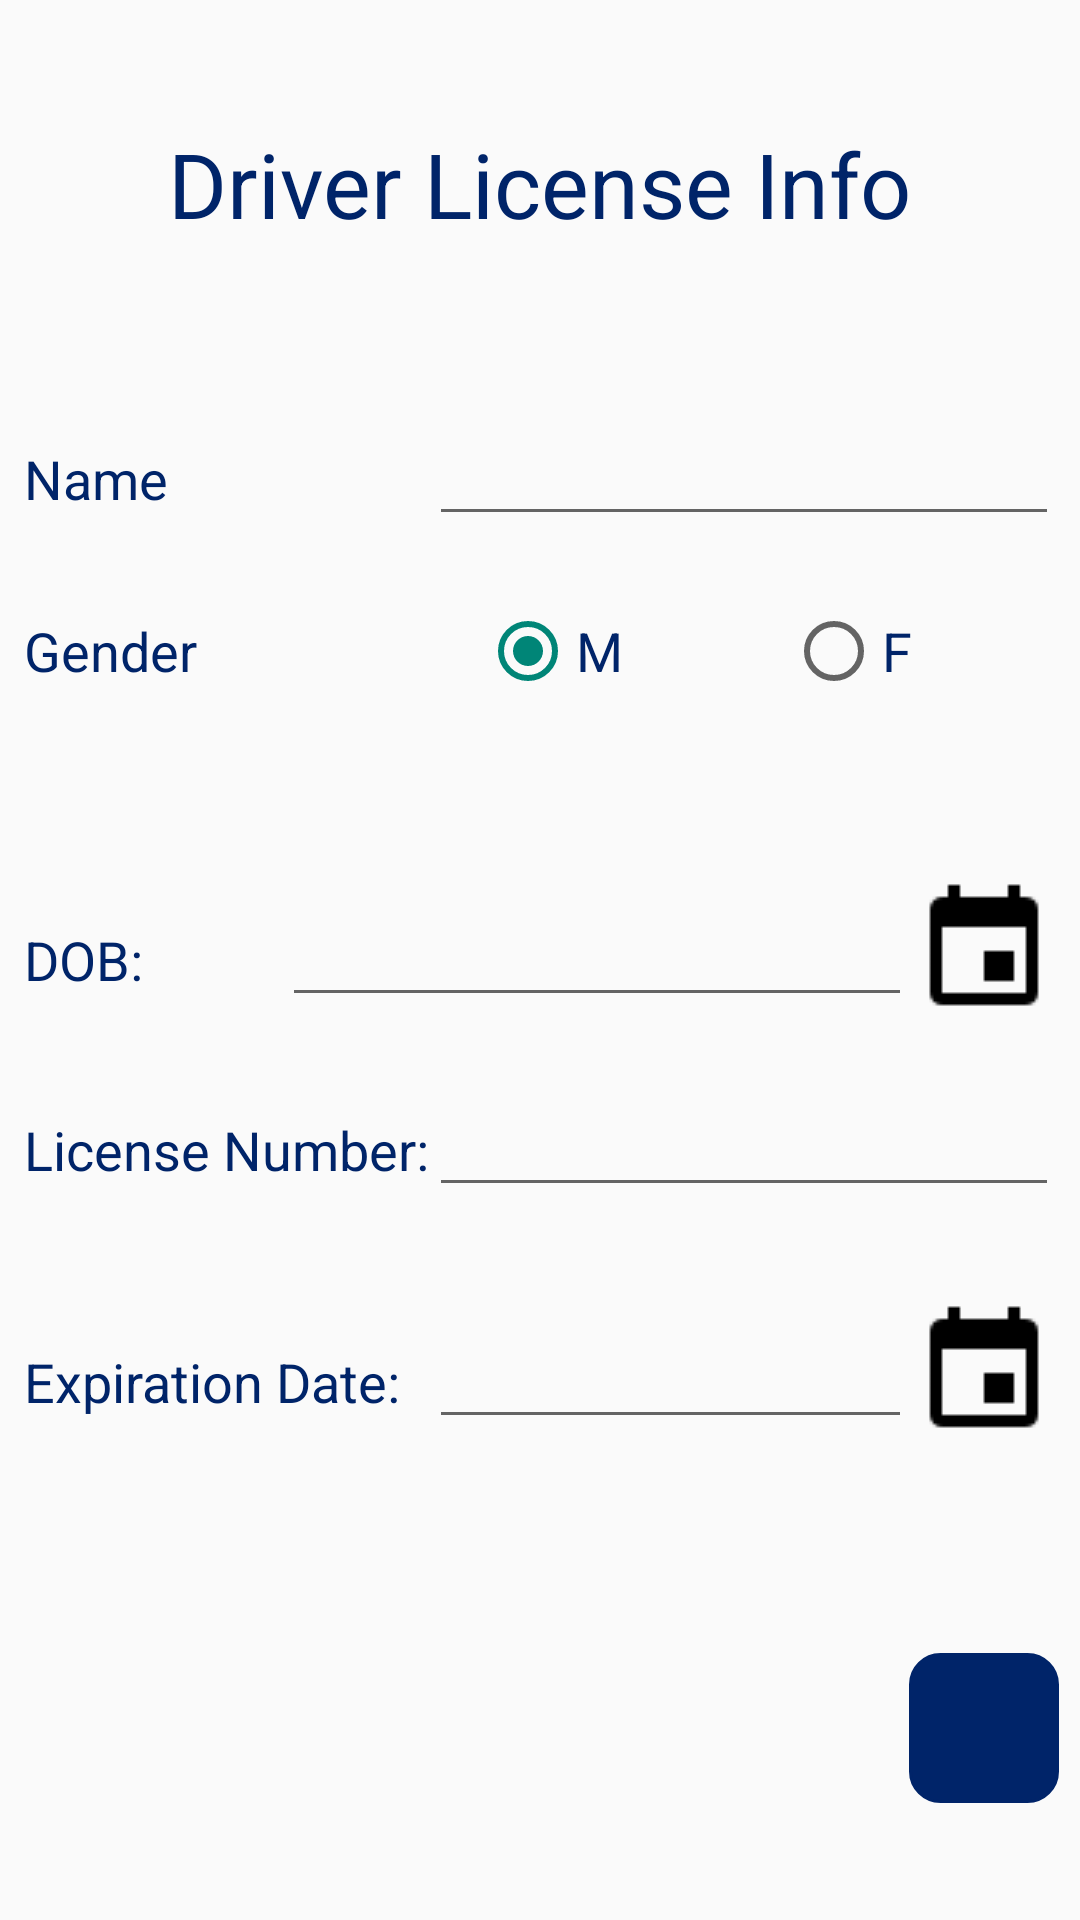

Named icons in this screenshot (1080x1920) and their bounding boxes, (x1, y1, x2, y2):
calendar: (929, 884, 1039, 1006), (929, 1306, 1039, 1428)
